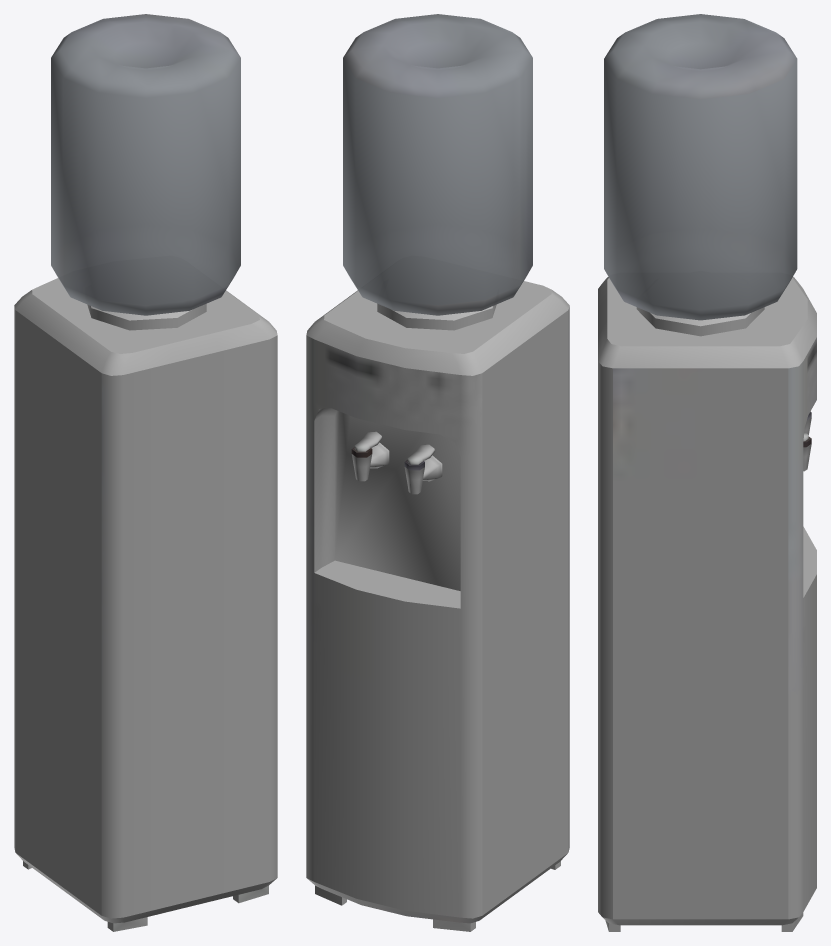
The model's file is water_cooler.glb.
3 renders of one model, left to right at view 1: azimuth 30°, elevation 25°; view 2: azimuth 150°, elevation 25°; view 3: azimuth 270°, elevation 25°, orthographic.
Visible parts, largest first — view 1: water_cooler; view 2: water_cooler; view 3: water_cooler.
Part boxes in pixels (left/top/right/bottom): water_cooler: left=14, top=14, right=277, bottom=931; water_cooler: left=306, top=14, right=569, bottom=931; water_cooler: left=598, top=14, right=816, bottom=931.
Size of the model in its own units: 0.2413 by 1.1 by 0.2572.
Materials: 2 (2 with a texture image).
